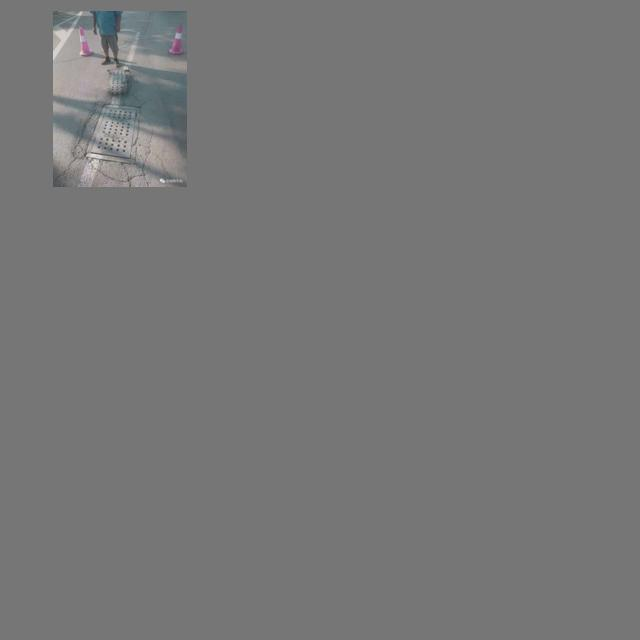circle: (70, 97, 156, 180)
